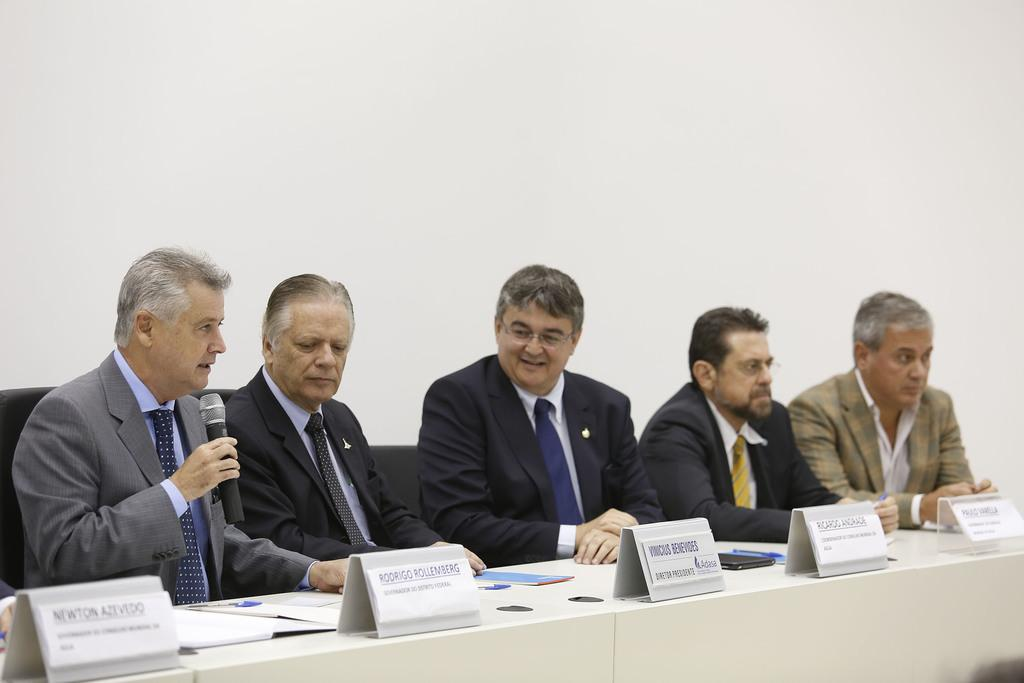no_helmet: (112, 263, 245, 343), (463, 274, 598, 338), (666, 302, 780, 362), (250, 281, 370, 338), (839, 296, 946, 359)
none: (27, 352, 306, 538), (400, 334, 682, 497), (218, 342, 444, 533), (612, 343, 872, 482), (780, 348, 1008, 471)
